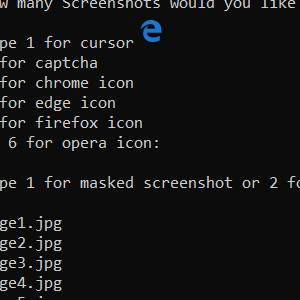edge: (140, 19, 161, 43)
